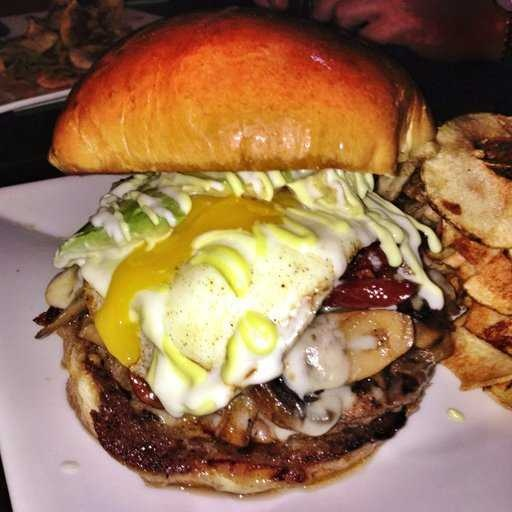hamburger: (35, 32, 462, 486)
